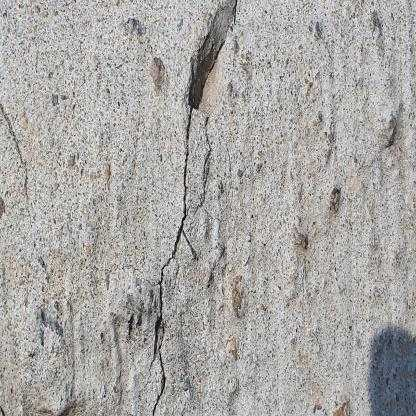crack: (148, 0, 240, 411)
